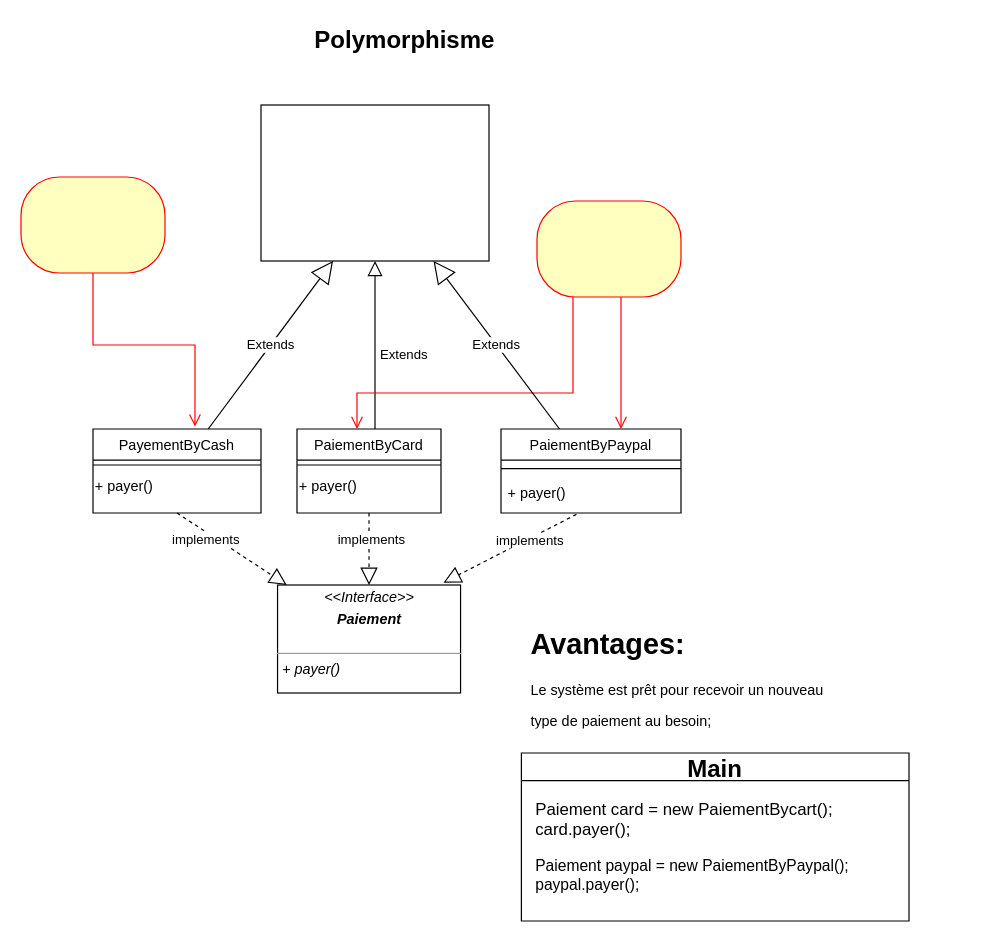
Some shapes in this 986 by 942 pixel diagram are drawn without their labels. Each missing label, with the centre of its shape:
<<Class Abstract >> Paiement + date:Date + montant : double + payed: boolean: point (374, 182)
Besoin de communiquer avec la banque: point (608, 248)
Pas besoin de communiquer ailleurs: point (92, 224)
